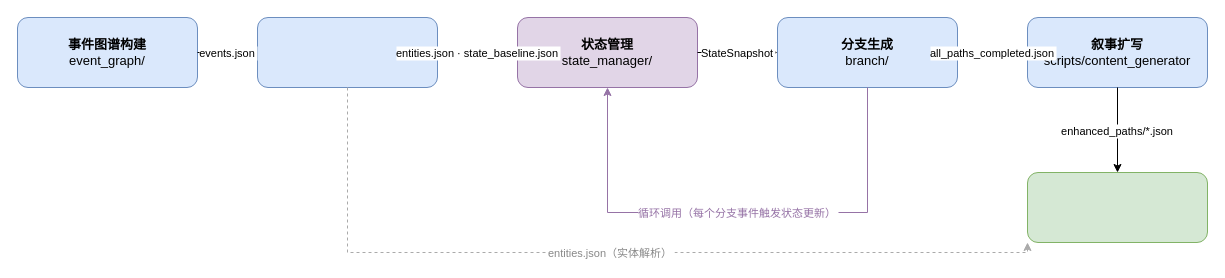
Some shapes in this 1225 by 278 pixel diagram are drawn without their labels. Each missing label, with the centre of its shape:
"Ren'Py 脚本生成 renpy/" goes at (x=1117, y=207).
"角色建模 character/" goes at (x=347, y=52).
